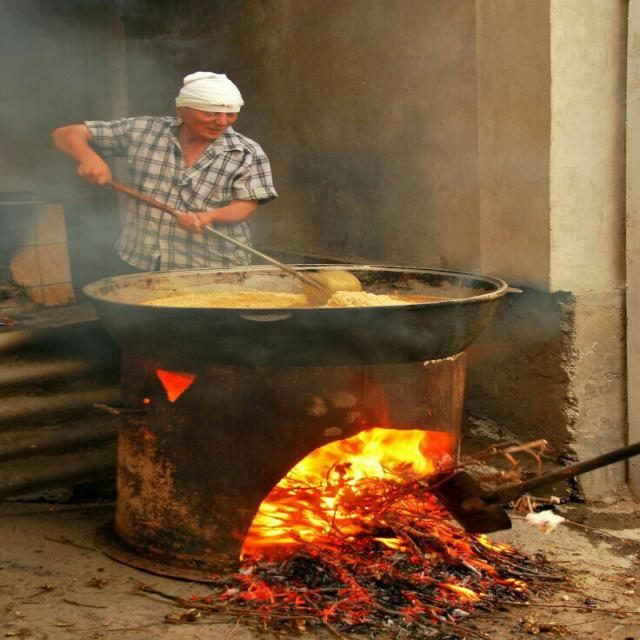fire: (278, 427, 433, 488), (242, 488, 345, 561)
